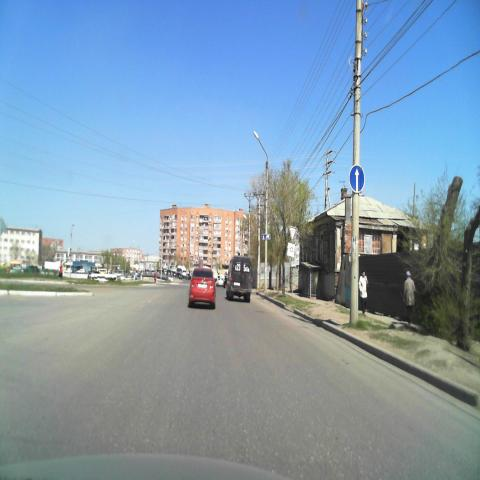8_13_1: (287, 243, 295, 257)
